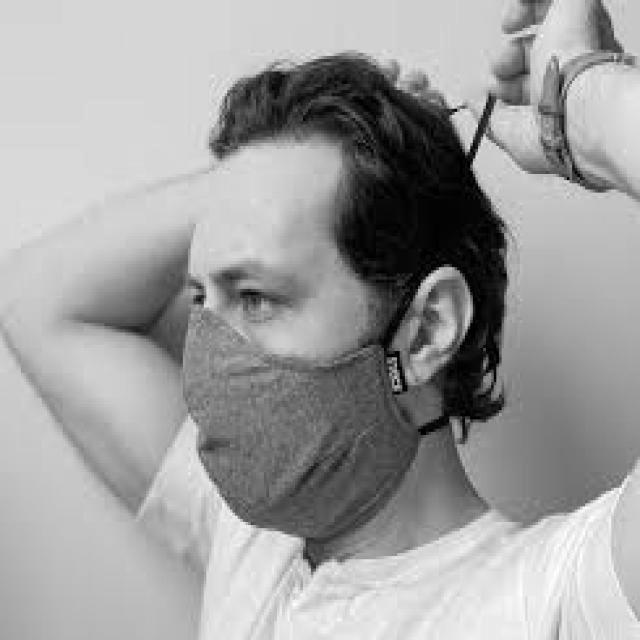fake: (180, 306, 425, 558)
real: (182, 142, 421, 548)
